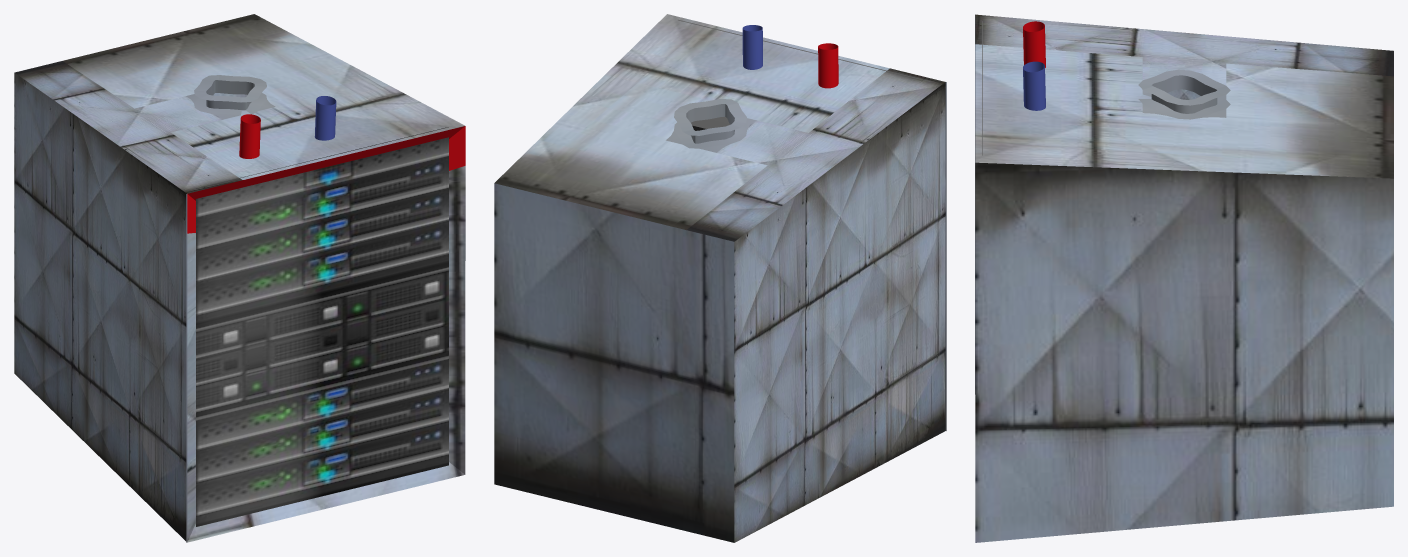
The model's file is Filter and radar.fbx.
3 views of the same model, side by side, from view 1: azimuth 30°, elevation 25°; view 2: azimuth 150°, elevation 25°; view 3: azimuth 270°, elevation 25° (orthographic). The views are drawn at different scales.
Visible parts, largest first — view 1: Car filter, radar; view 2: Car filter, radar; view 3: Car filter, radar.
Boxes of the visible parts, bbox=[...] form: Car filter: bbox=[14, 14, 465, 542]; radar: bbox=[196, 96, 448, 526]; Car filter: bbox=[494, 14, 946, 542]; radar: bbox=[678, 19, 930, 130]; Car filter: bbox=[975, 14, 1393, 542]; radar: bbox=[982, 21, 1045, 155].
Bounding box in the file's own units: 40.61 × 53.18 × 48.35.
